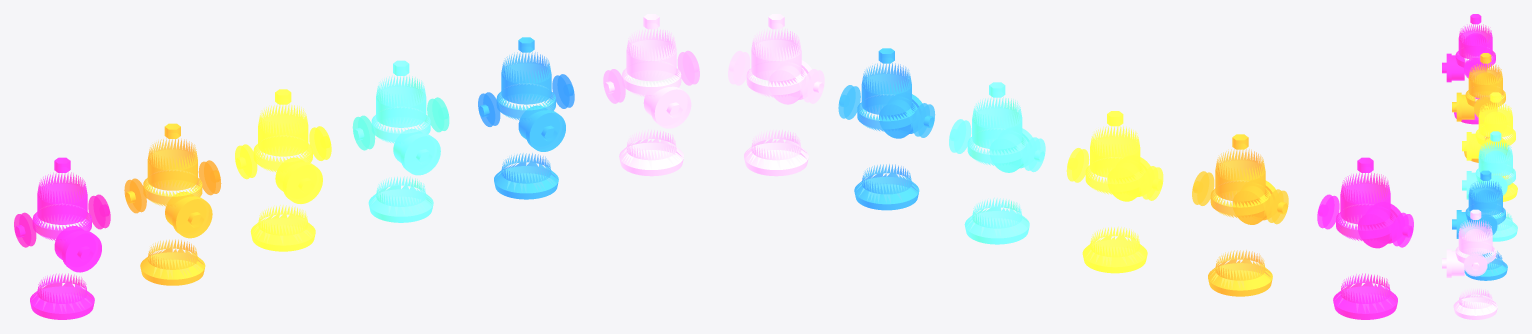
Rendered from darcelle-plaza-rainbow-hydrants.glb.
The picture shows the model from 3 angles, left to right: view 1: azimuth 30°, elevation 25°; view 2: azimuth 150°, elevation 25°; view 3: azimuth 270°, elevation 25°; orthographic projection. The views are drawn at different scales.
Visible parts, largest first — view 1: Darcelle Plaza rainbow hydrants.001, Darcelle Plaza rainbow hydrants.005, Darcelle Plaza rainbow hydrants.003, Darcelle Plaza rainbow hydrants, Darcelle Plaza rainbow hydrants.004, Darcelle Plaza rainbow hydrants.002; view 2: Darcelle Plaza rainbow hydrants, Darcelle Plaza rainbow hydrants.002, Darcelle Plaza rainbow hydrants.004, Darcelle Plaza rainbow hydrants.001, Darcelle Plaza rainbow hydrants.005, Darcelle Plaza rainbow hydrants.003; view 3: Darcelle Plaza rainbow hydrants, Darcelle Plaza rainbow hydrants.005, Darcelle Plaza rainbow hydrants.004, Darcelle Plaza rainbow hydrants.003, Darcelle Plaza rainbow hydrants.001, Darcelle Plaza rainbow hydrants.002.
Part boxes in pixels (<box>): Darcelle Plaza rainbow hydrants.001: <box>14,157,110,319</box>; Darcelle Plaza rainbow hydrants.005: <box>478,37,574,199</box>; Darcelle Plaza rainbow hydrants.003: <box>235,89,331,251</box>; Darcelle Plaza rainbow hydrants: <box>603,14,699,176</box>; Darcelle Plaza rainbow hydrants.004: <box>352,60,449,222</box>; Darcelle Plaza rainbow hydrants.002: <box>124,123,221,285</box>; Darcelle Plaza rainbow hydrants: <box>728,14,824,176</box>; Darcelle Plaza rainbow hydrants.002: <box>1192,134,1288,296</box>; Darcelle Plaza rainbow hydrants.004: <box>949,82,1045,244</box>; Darcelle Plaza rainbow hydrants.001: <box>1317,157,1413,319</box>; Darcelle Plaza rainbow hydrants.005: <box>838,48,935,210</box>; Darcelle Plaza rainbow hydrants.003: <box>1066,111,1163,273</box>; Darcelle Plaza rainbow hydrants: <box>1442,209,1497,319</box>; Darcelle Plaza rainbow hydrants.005: <box>1452,170,1507,280</box>; Darcelle Plaza rainbow hydrants.004: <box>1462,131,1517,241</box>; Darcelle Plaza rainbow hydrants.003: <box>1462,92,1517,201</box>; Darcelle Plaza rainbow hydrants.001: <box>1442,14,1495,124</box>; Darcelle Plaza rainbow hydrants.002: <box>1452,53,1507,162</box>.
Size of the model in its own units: 5.3 by 1.09 by 0.755.
